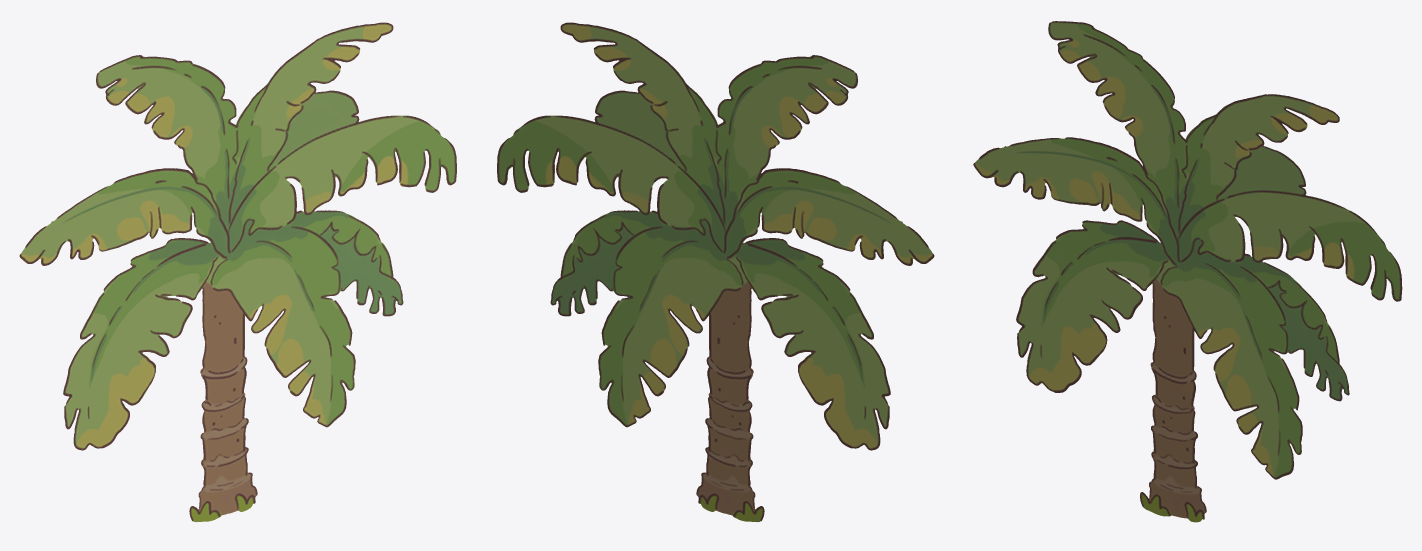
Rendered from Mesh_Home_B_RF_3.fbx.
The picture shows the model from 3 angles, left to right: view 1: azimuth 30°, elevation 25°; view 2: azimuth 150°, elevation 25°; view 3: azimuth 330°, elevation 25°; orthographic projection. The views are drawn at different scales.
Visible parts, largest first — view 1: Mesh_Home_B_RF_3; view 2: Mesh_Home_B_RF_3; view 3: Mesh_Home_B_RF_3.
Boxes of the visible parts, box(x1,y1,x2,y2) form: Mesh_Home_B_RF_3: box(19, 22, 456, 522); Mesh_Home_B_RF_3: box(497, 22, 934, 522); Mesh_Home_B_RF_3: box(973, 21, 1402, 522).
Bounding box in the file's own units: 92.72 × 100 × 0.
